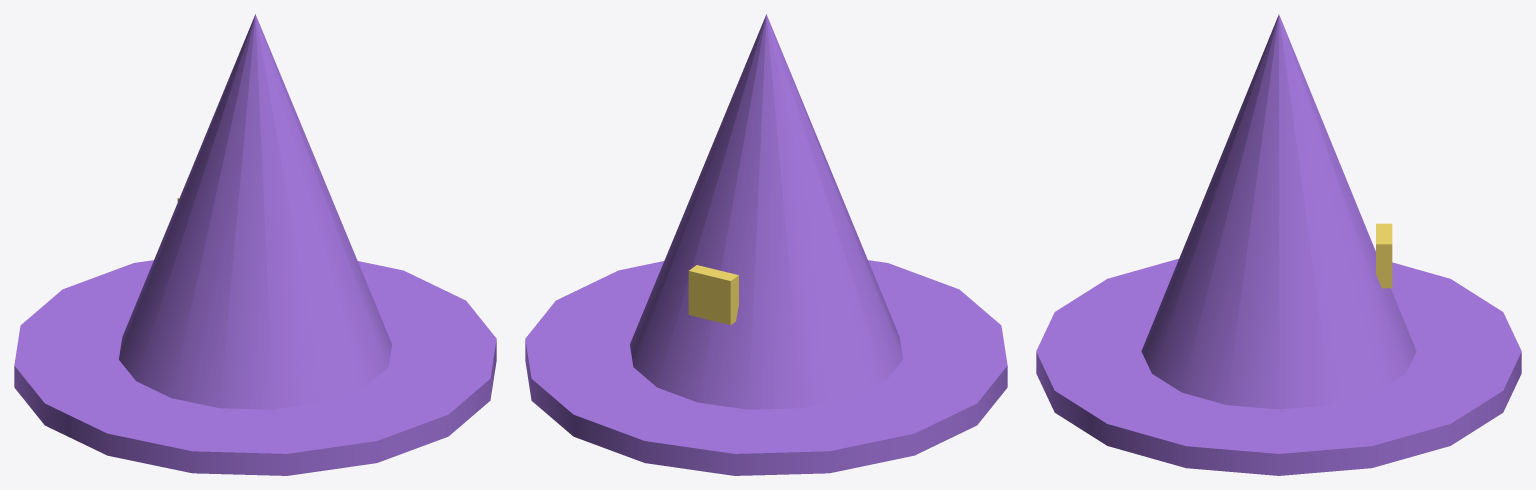
The model's file is hat_wizard.gltf.
3 renders of one model, left to right at view 1: azimuth 30°, elevation 25°; view 2: azimuth 150°, elevation 25°; view 3: azimuth 270°, elevation 25°, orthographic.
Visible parts, largest first — view 1: hat_wizard; view 2: hat_wizard; view 3: hat_wizard.
Boxes of the visible parts, x1,y1,x2,y2 form: hat_wizard: (14, 14, 496, 475); hat_wizard: (525, 14, 1007, 475); hat_wizard: (1036, 14, 1521, 475).
Bounding box in the file's own units: 0.6 × 0.49 × 0.6.
